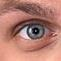eye: (27, 25, 44, 38)
